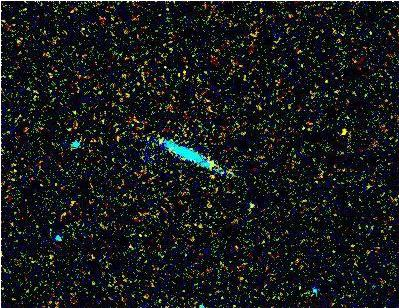star: (328, 116, 358, 146)
